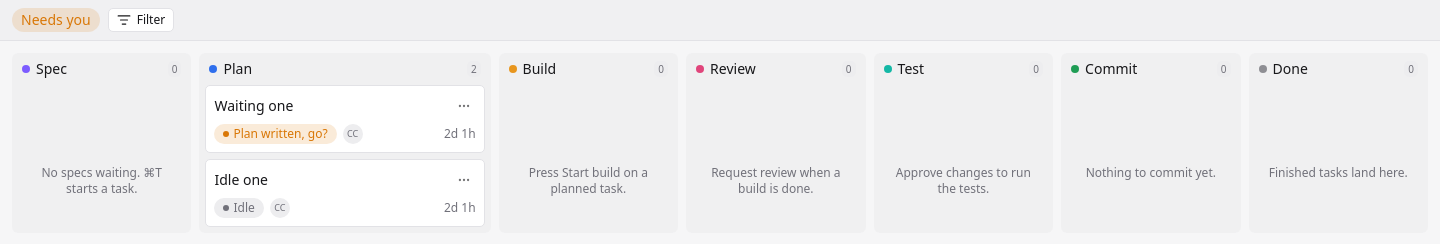
Test case: Board › toggling Needs you in the header filters the cards and the counts
Step 1. Click the button "Needs you" → click(56, 20), box [12, 8, 100, 32]
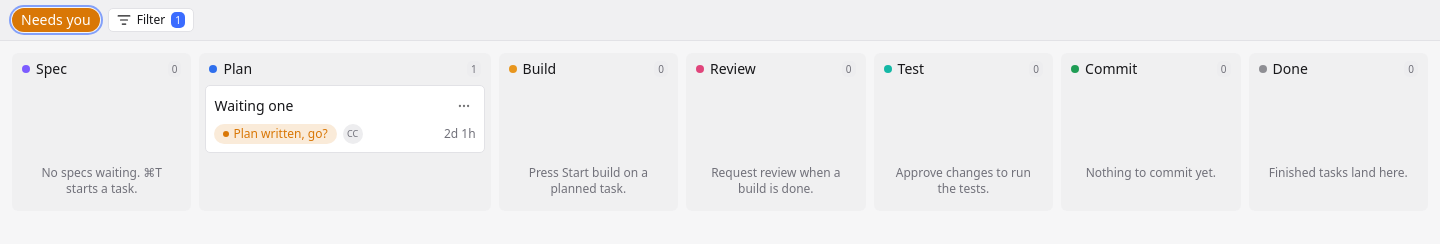
Expected: the text "Waiting one" is shown, [214, 96, 293, 115]
Expected: the text "Idle one" is gone
Expected: the text with test id "column-count" reads "1", [471, 62, 477, 76]
